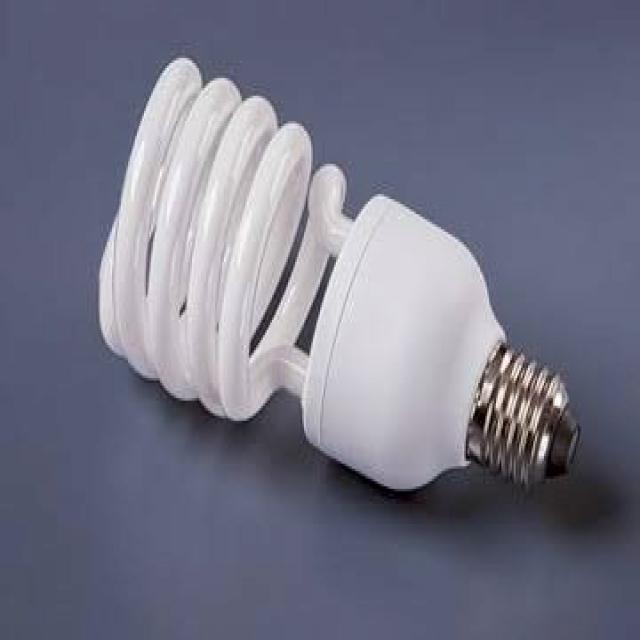bulb: (97, 56, 580, 511)
